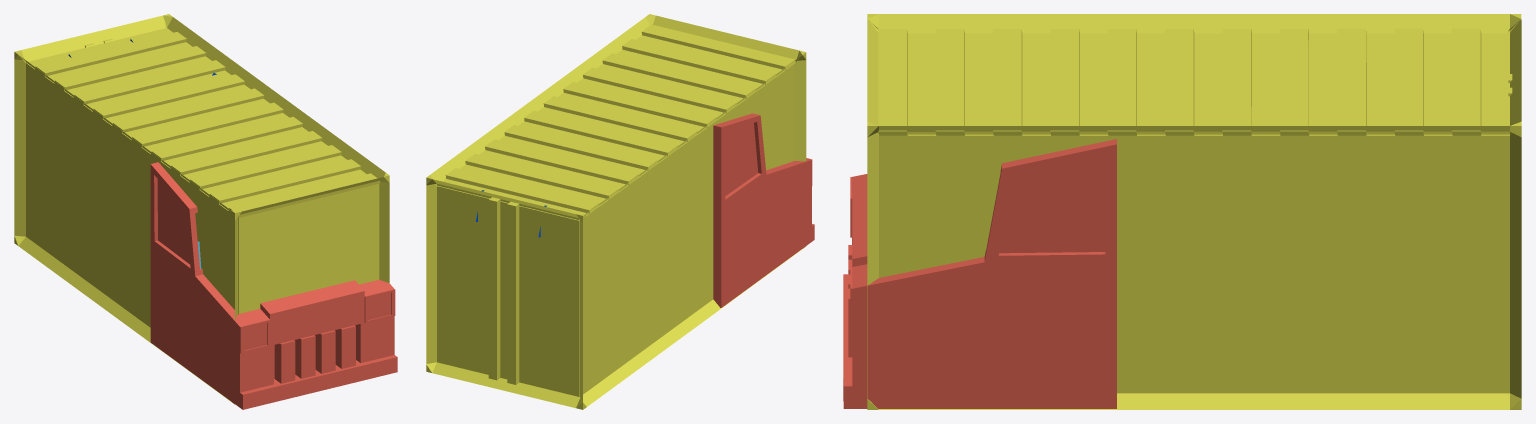
The model's file is freight_02.glb.
3 views of the same model, side by side, from view 1: azimuth 30°, elevation 25°; view 2: azimuth 150°, elevation 25°; view 3: azimuth 270°, elevation 25° (orthographic). The views are drawn at different scales.
Visible parts, largest first — view 1: Cube.001, Cube; view 2: Cube.001, Cube; view 3: Cube.001, Cube.
Boxes of the visible parts, left/top/right/bottom form: Cube.001: left=14, top=14, right=389, bottom=404; Cube: left=150, top=162, right=397, bottom=409; Cube.001: left=426, top=14, right=806, bottom=409; Cube: left=713, top=113, right=814, bottom=307; Cube.001: left=867, top=14, right=1521, bottom=409; Cube: left=843, top=139, right=1116, bottom=408.
Size of what is drawn, in the model's own units: 2.09 by 2.53 by 5.35.
